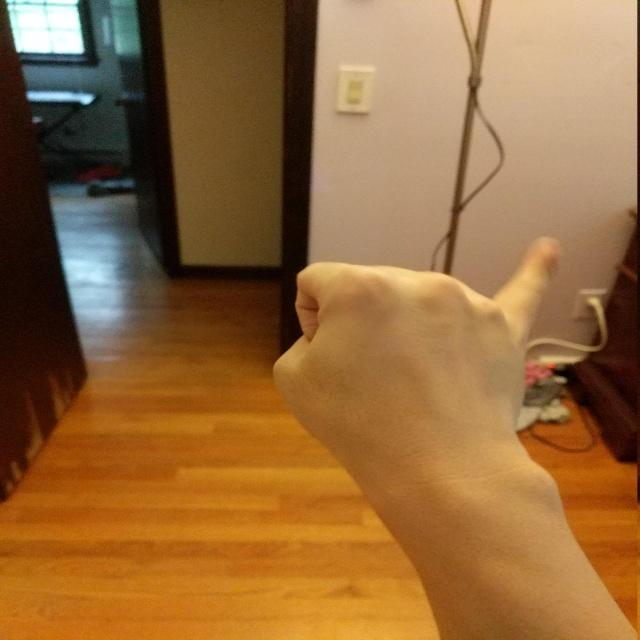J: (262, 225, 560, 473)
